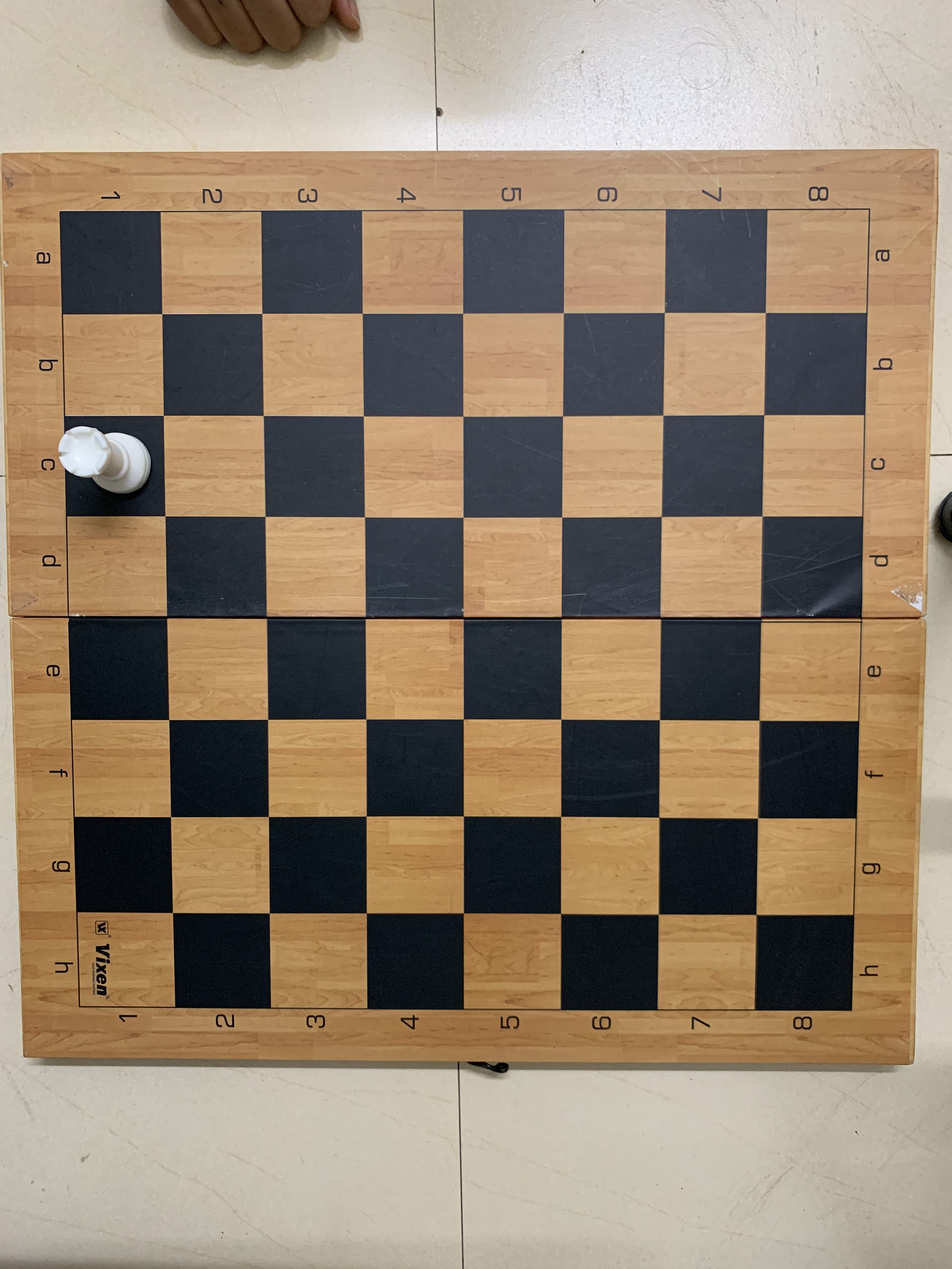white_rook: (55, 409, 170, 514)
